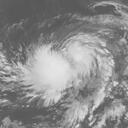cyclone: (22, 32, 115, 103)
